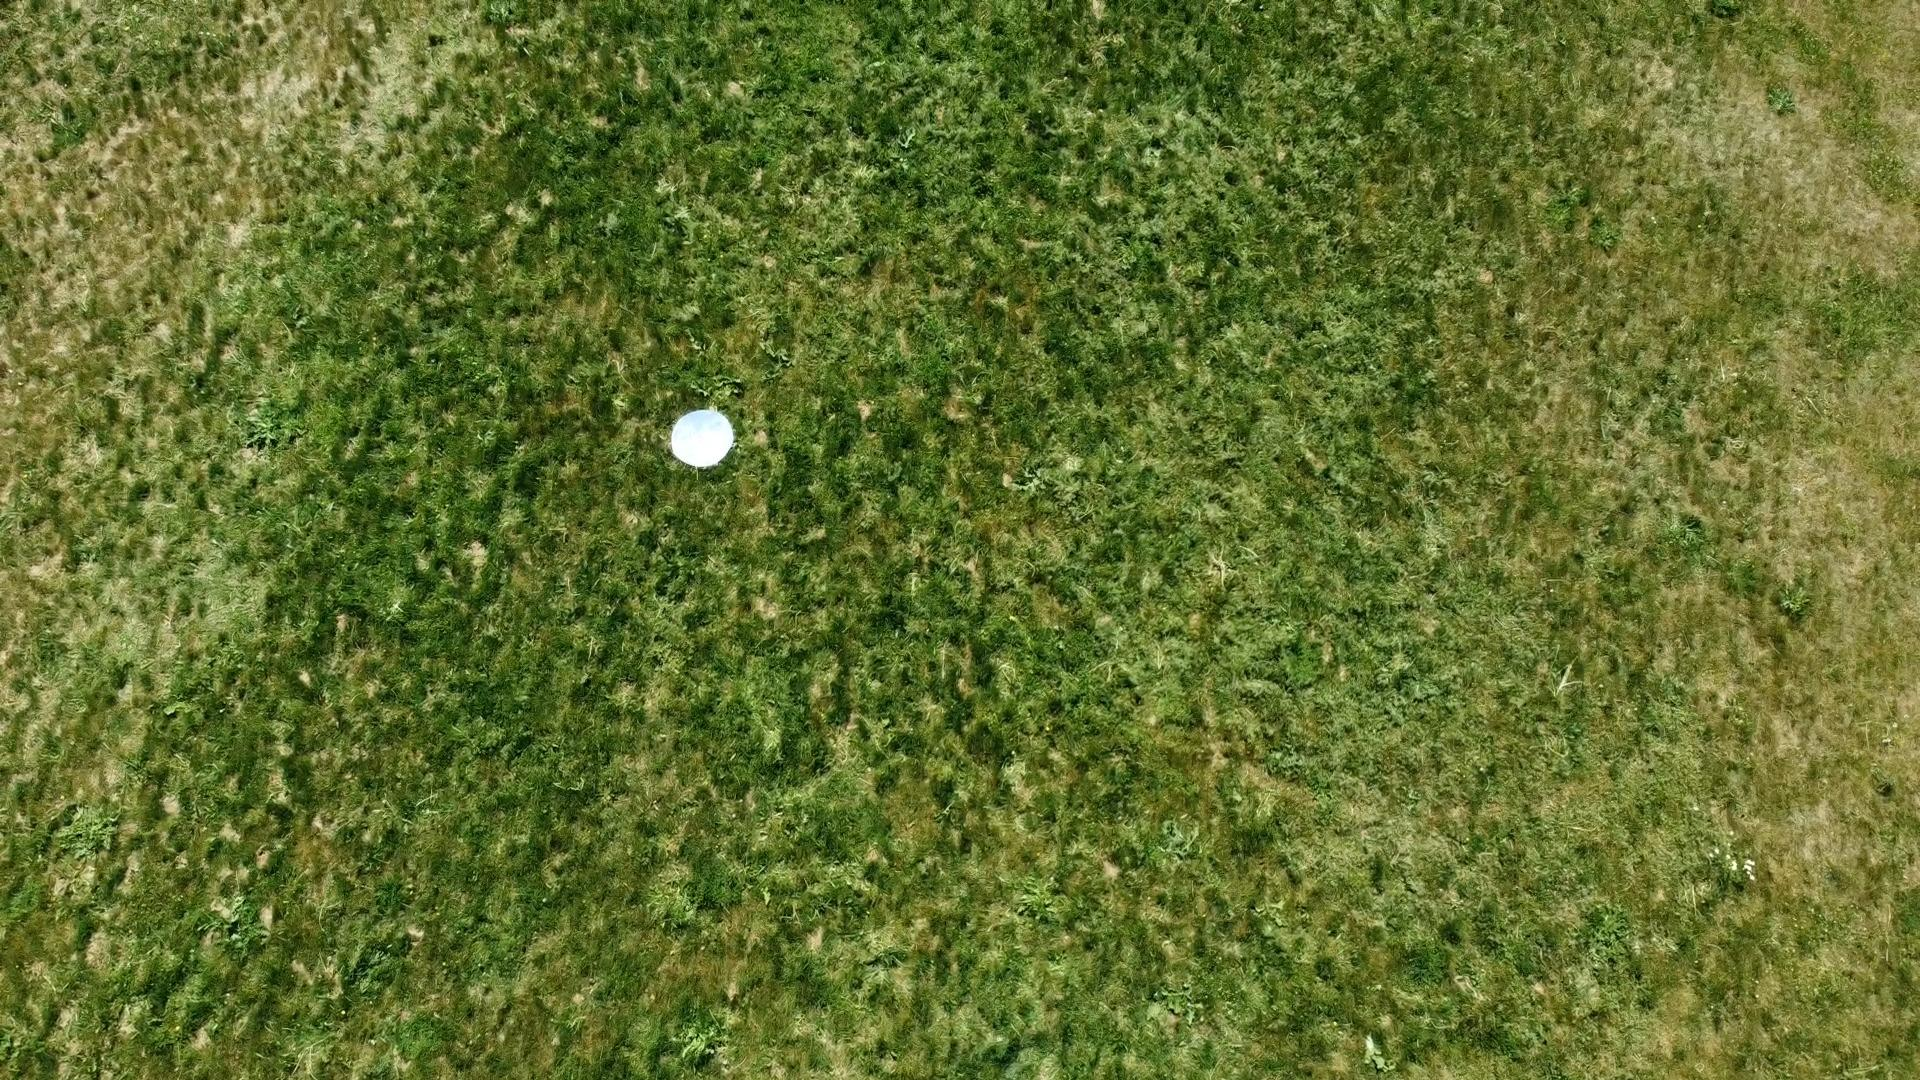Blue: (669, 406, 738, 469)
